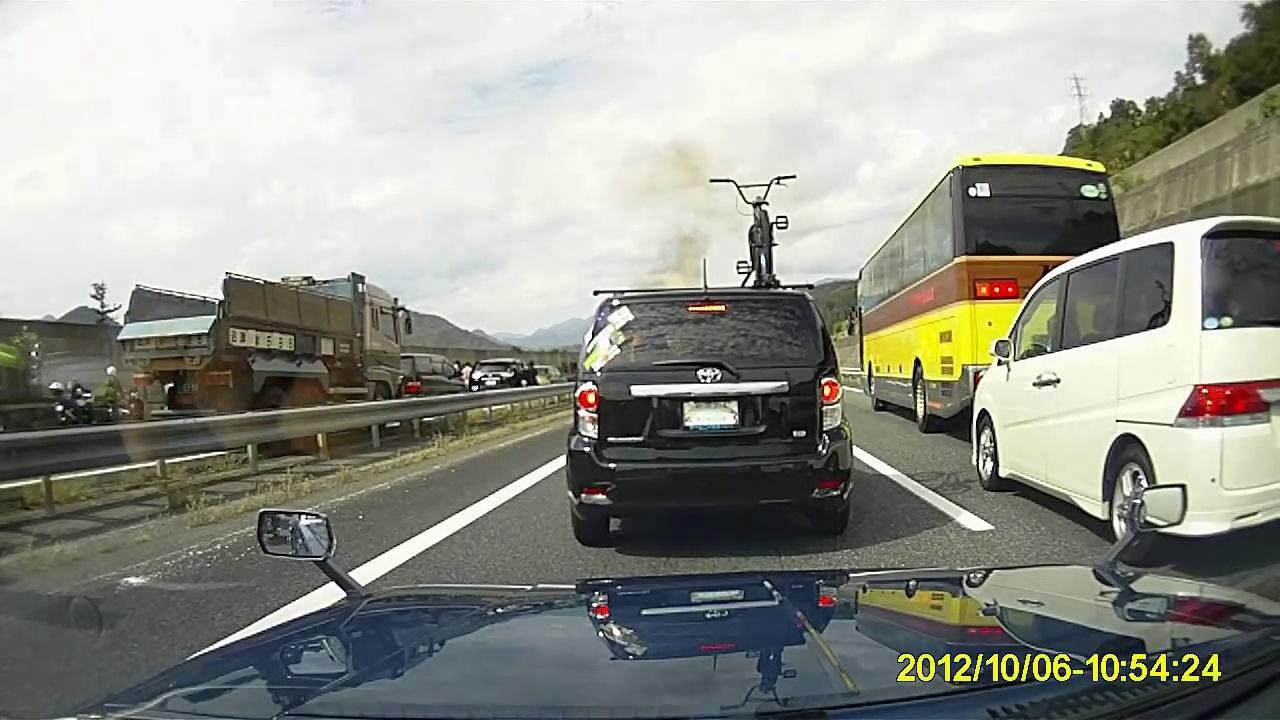smoke: (638, 138, 710, 216)
